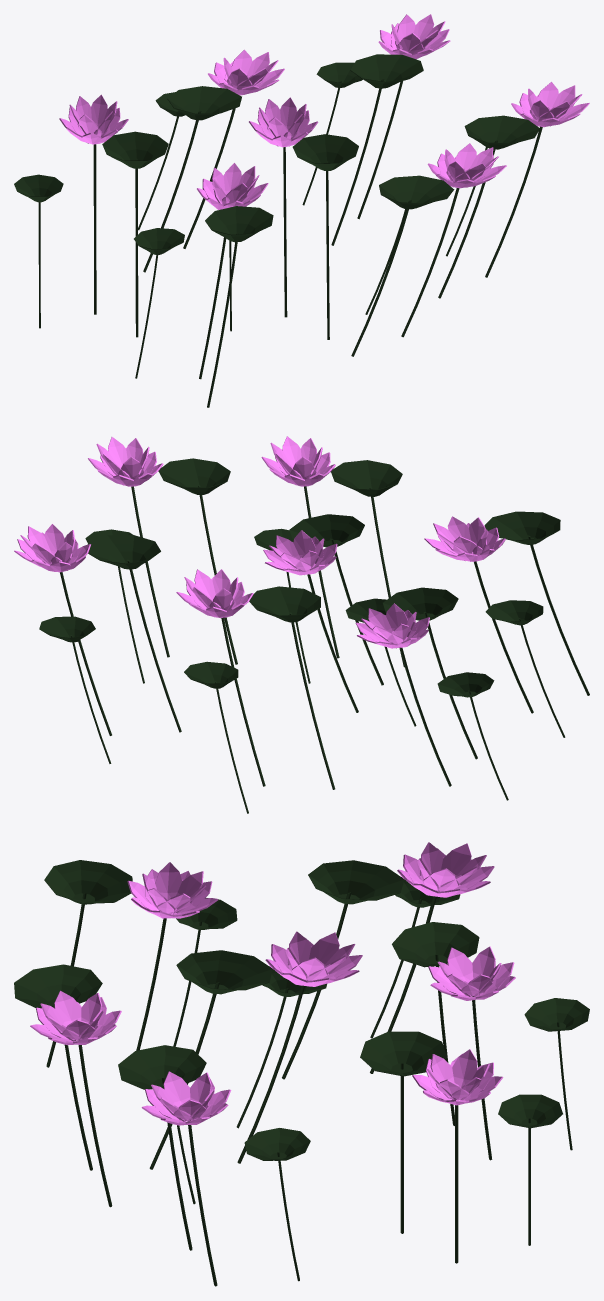
3 renders of one model, top to bottom at view 1: azimuth 30°, elevation 25°; view 2: azimuth 150°, elevation 25°; view 3: azimuth 270°, elevation 25°, orthographic. The views are drawn at different scales.
Parts seen in each view (by area): view 1: Object010; view 2: Object010; view 3: Object010.
Boxes of the visible parts, x1,y1,x2,y2 form: Object010: (14, 14, 589, 407); Object010: (14, 436, 589, 813); Object010: (14, 842, 589, 1286).
Size of the model in its own units: 256 by 93.98 by 205.
